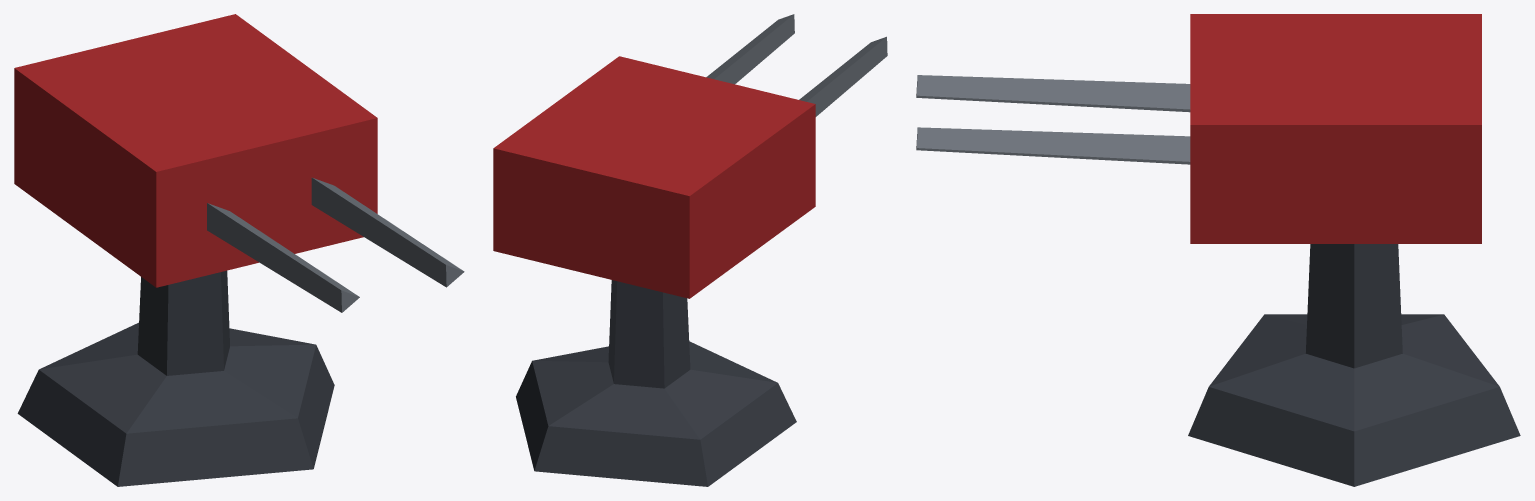
Rendered from SM_Prop_FlakGun_LQ.glb.
3 renders of one model, left to right at view 1: azimuth 30°, elevation 25°; view 2: azimuth 150°, elevation 25°; view 3: azimuth 270°, elevation 25°, orthographic. The views are drawn at different scales.
Parts seen in each view (by area): view 1: SM_Prop_FlakGun_LQ; view 2: SM_Prop_FlakGun_LQ; view 3: SM_Prop_FlakGun_LQ.
Boxes of the visible parts, x1,y1,x2,y2 form: SM_Prop_FlakGun_LQ: (14, 14, 464, 486); SM_Prop_FlakGun_LQ: (493, 14, 887, 486); SM_Prop_FlakGun_LQ: (916, 14, 1520, 486).
Size of the model in its own units: 0.8683 by 1.04 by 1.66.
Materials: 1 (1 with a texture image).
